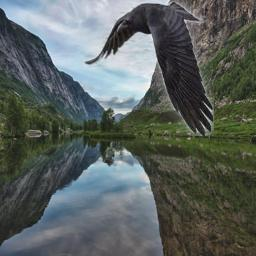Crow: (84, 0, 214, 136)
